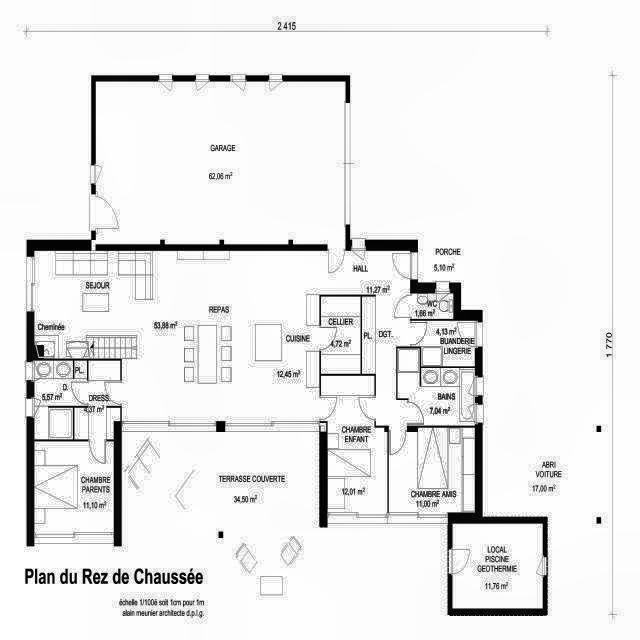room: (34, 251, 410, 426), (96, 81, 345, 244), (321, 376, 388, 512), (452, 523, 543, 608), (389, 427, 475, 512), (34, 441, 114, 532), (397, 348, 475, 426), (34, 361, 87, 439), (74, 361, 120, 439), (321, 296, 361, 374), (411, 321, 475, 366), (411, 294, 453, 319)
